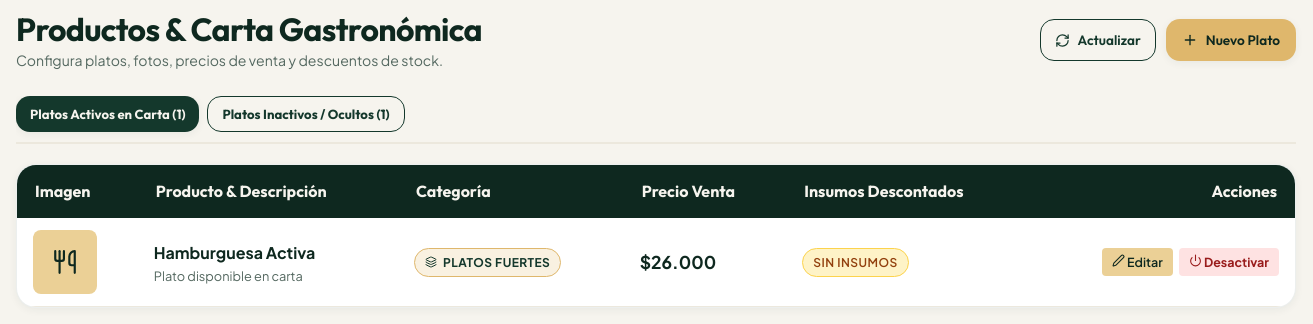
Test case: ProductosPage - Filtrado por Pestañas de Activos e Inactivos › al hacer clic en la pestaña "Platos Inactivos / Ocultos" debe mostrar exclusivamente los inactivos
The width and height of the screenshot is (1313, 324).
Check: the text "Hamburguesa Activa" is shown, box [154, 242, 315, 263]
// Cambiar a la pestaña de inactivos
What coordinates should you click on to do the following:
click the button "Platos Inactivos / Ocultos (1)"
I would click on:
 (306, 114)
Its box is [208, 96, 404, 132].
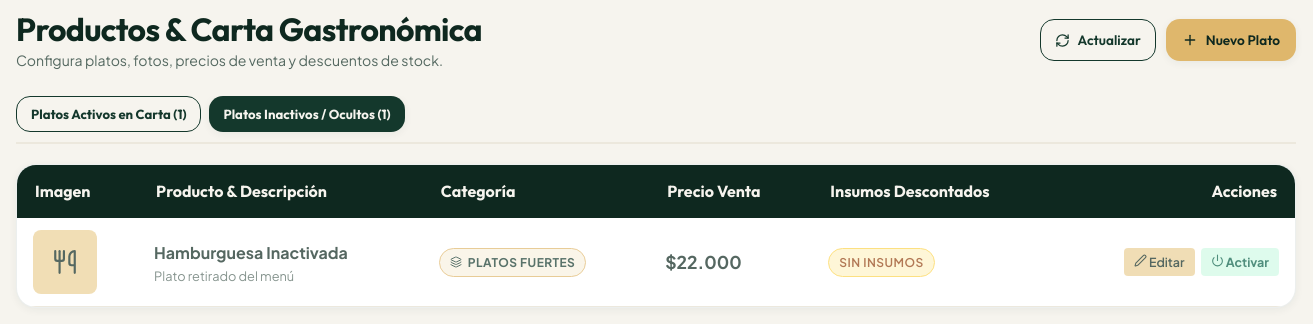
Check: the text "Hamburguesa Inactivada" is shown, box [154, 242, 348, 263]
Check: the text "Hamburguesa Activa" is gone
